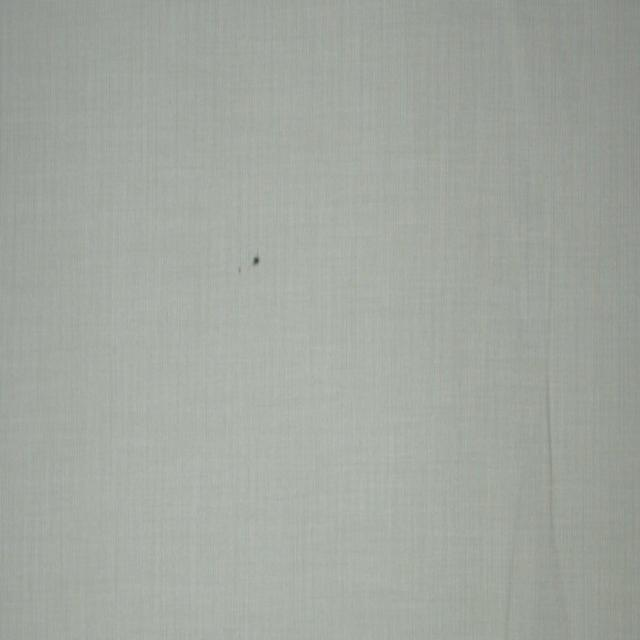dirty: (249, 250, 261, 270)
